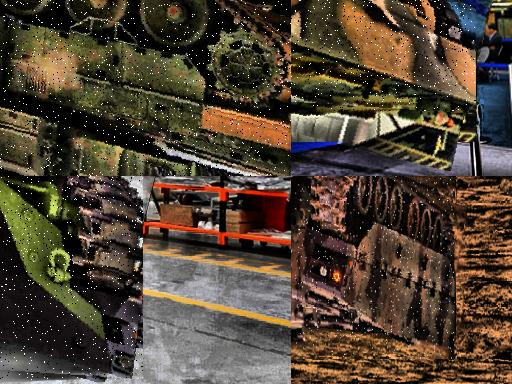tanks: (1, 1, 292, 177), (296, 177, 455, 360), (1, 177, 143, 381), (292, 1, 476, 112)
